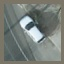car: (19, 12, 44, 43)
